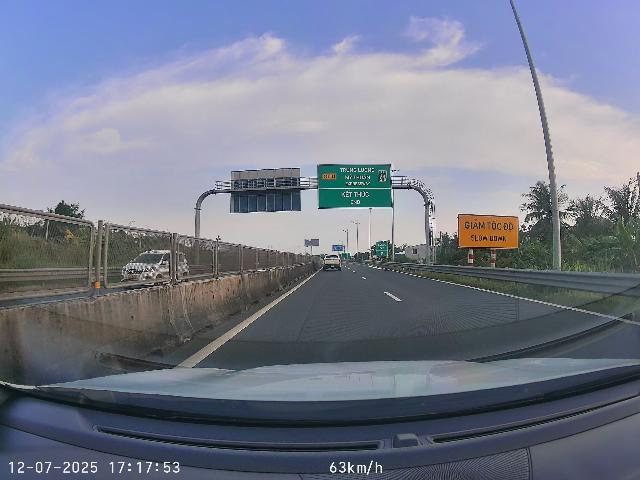438-ket-thuc-duong-cao-toc: (378, 170, 387, 182)
